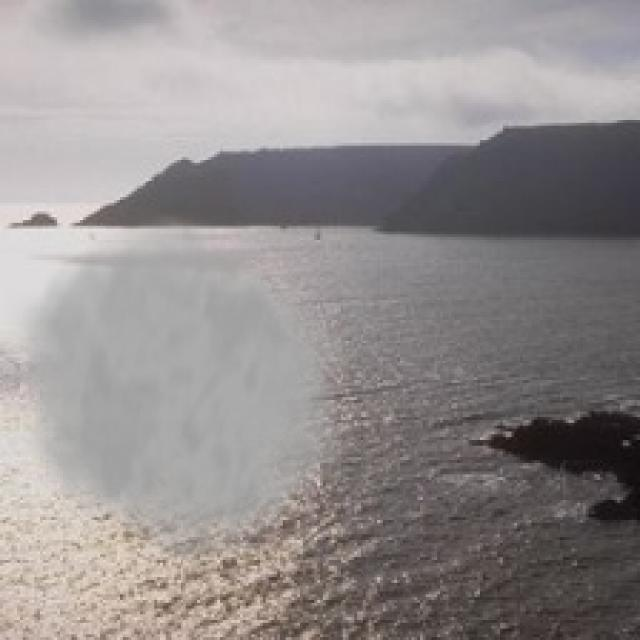smoke: (3, 206, 348, 580)
